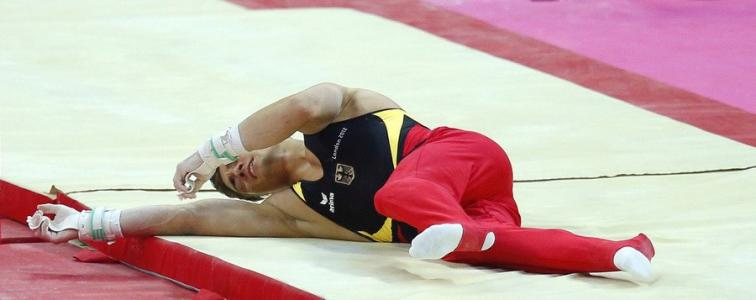down: (16, 78, 664, 290)
